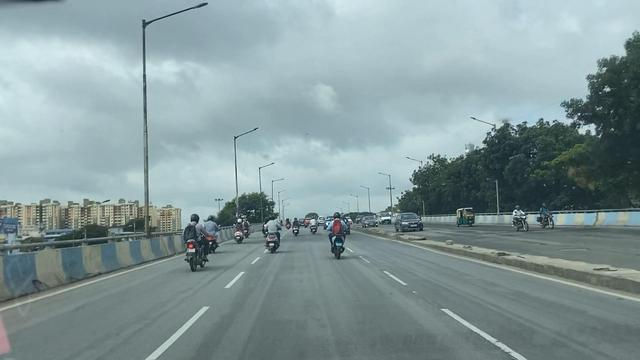LMV: (185, 212, 204, 271), (331, 213, 345, 261), (265, 215, 281, 255), (234, 215, 249, 245)
